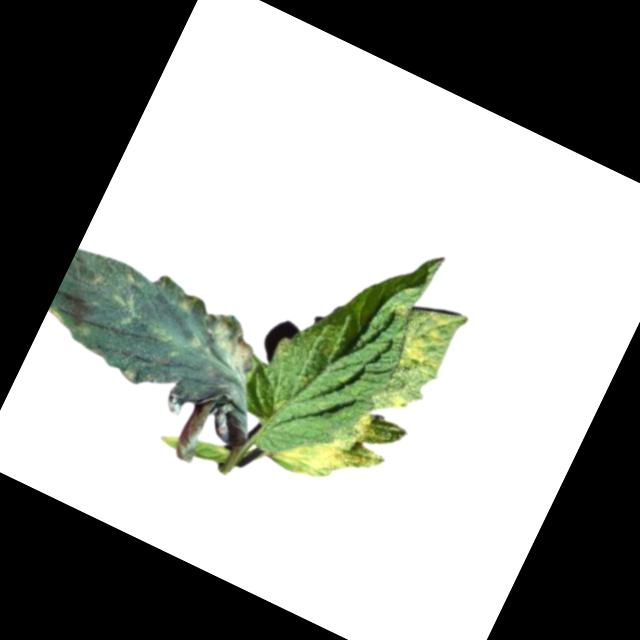Leaf_Mold: (269, 380, 408, 508), (366, 294, 467, 430), (189, 304, 271, 383), (171, 286, 202, 317)
